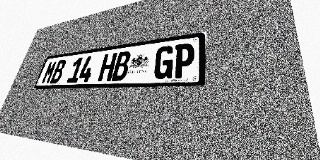1: (66, 57, 85, 83)
4: (77, 55, 96, 82)
B: (111, 51, 132, 81), (49, 59, 67, 84)
G: (153, 45, 175, 79)
H: (97, 52, 117, 82)
M: (41, 60, 58, 84)
P: (172, 42, 195, 78)
